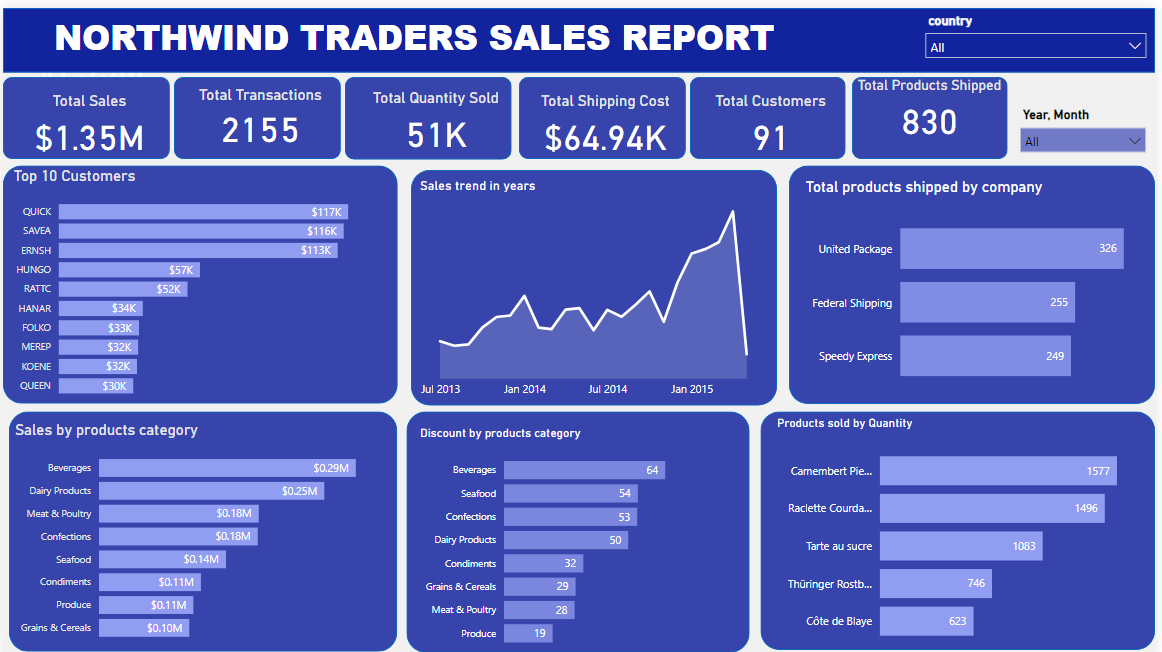

What the dashboard file says about the page in this screenshot:
{"tool":"powerbi","page":{"name":"Page 1","canvas":[1280,720],"ordinal":0},"visuals":[{"type":"shape","box":[0,76.7,185.3,91.1],"z":0,"group":"g1"},{"type":"shape","box":[189.7,76.7,185.3,91.1],"z":0,"group":"g5"},{"type":"shape","box":[763.7,76.7,173,91.1],"z":0,"group":"g2"},{"type":"shape","box":[943.3,76.7,173,91.1],"z":0,"group":"g6"},{"type":"shape","box":[841.7,448.3,438.3,265],"z":0},{"type":"shape","box":[574,76.7,185.3,91.1],"z":1000,"group":"g3"},{"type":"card","title":"Total Products Shipped","fields":{"Values":["orders.Count_shipped_Orders"]},"box":[940,76.7,178.3,73.3],"z":1000,"group":"g6"},{"type":"card","title":"Total Sales","fields":{"Values":["Sales_details.Total_Sales"]},"box":[0,92.7,191.7,73.5],"z":1000,"group":"g1"},{"type":"card","title":"Total Customers","fields":{"Values":["customers.Total Customers"]},"box":[763.7,92.7,178.9,73.5],"z":1000,"group":"g2"},{"type":"shape","box":[873.3,175,406.7,265],"z":1000},{"type":"shape","box":[379.3,76.7,185,91.7],"z":2000,"group":"g4"},{"type":"shape","box":[449.1,448.3,381.1,267.9],"z":2000},{"type":"shape","box":[453.3,180,406.7,261.7],"z":3000},{"type":"card","title":"Total Shipping Cost","fields":{"Values":["orders.Total_Shipping_Cost"]},"box":[574,92.7,191.7,73.5],"z":4000,"group":"g3"},{"type":"shape","box":[6.4,448.3,431.4,266.8],"z":4000},{"type":"card","title":"Total Sales","fields":{"Values":["Sales_details.Total_Sales"]},"box":[0,16,191.7,73.5],"z":5000},{"type":"card","title":"Total Quantity Sold","fields":{"Values":["Sales_details.Total_Quantity_sold"]},"box":[384.3,90.5,191.7,73.5],"z":5000,"group":"g4"},{"type":"shape","box":[0,0,1280,71.7],"z":6000},{"type":"textbox","box":[51.7,0,896.7,71.7],"z":7000},{"type":"card","title":"Total Transactions","fields":{"Values":["Sales_details.Total_Transaction"]},"box":[189.7,86.3,191.7,68.7],"z":7000,"group":"g5"},{"type":"group","id":"g1","title":"Group 1","box":[0,76.7,191.7,91.1],"z":8000},{"type":"group","id":"g2","title":"Group 1","box":[763.7,76.7,178.3,91.7],"z":9000},{"type":"group","id":"g3","title":"Group 2","box":[574,76.7,191.7,91.7],"z":10000},{"type":"group","id":"g4","title":"Group 3","box":[379.3,76.7,196.7,91.7],"z":11000},{"type":"group","id":"g5","title":"Group 4","box":[189.7,76.7,191.7,91.7],"z":12000},{"type":"barChart","title":"Sales by products category","fields":{"Y":["Sales_details.Total_Sales"],"Category":["categories.categoryName"]},"box":[8,458.5,431.4,255.6],"z":13000},{"type":"shape","box":[0,175.7,438.4,264.6],"z":14000},{"type":"barChart","title":"Top 10 Customers","fields":{"Category":["customers.customerID"],"Y":["Sales_details.Total_Sales"]},"box":[6.4,177.3,431.4,265.2],"z":15000},{"type":"lineChart","title":"Sales trend in years","fields":{"Y":["Sales_details.Total_Sales"],"Category":["Calendar.Date.Variation.Date Hierarchy.Year","Calendar.Date.Variation.Date Hierarchy.Quarter","Calendar.Date.Variation.Date Hierarchy.Month"]},"box":[458.3,188.3,396.7,253.3],"z":16000},{"type":"barChart","title":"Discount by products category","fields":{"Category":["categories.categoryName"],"Y":["order_details.Total_discount"]},"box":[458.4,465.3,375.2,255.4],"z":17000},{"type":"barChart","title":"Total products shipped by company","fields":{"Category":["shippers.companyName"],"Y":["orders.Count_shipped_Orders"]},"box":[886.7,188.3,393.3,251.7],"z":18000},{"type":"group","id":"g6","title":"Group 5","box":[940,76.7,178.3,91.1],"z":19000},{"type":"barChart","title":"Products sold by Quantity","fields":{"Y":["Sales_details.Total_Quantity_sold"],"Category":["Sales_details.Products_name"]},"box":[855,453.3,425,266.7],"z":20000},{"type":"slicer","title":"Dat","fields":{"Values":["Calendar.Year","Calendar.Month Name"]},"box":[1120,105,160,71.7],"z":21000},{"type":"slicer","fields":{"Values":["customers.country"]},"box":[1015,0,265,71.7],"z":22000}]}

Visuals, with their boxes in screenshot pixels (x1, y1, x2, y2), scaled from the page's 1280x720 canvas onto the 1162x652 screenshot:
shape: pyautogui.locateOnScreen(0, 69, 168, 152)
shape: pyautogui.locateOnScreen(172, 69, 340, 152)
shape: pyautogui.locateOnScreen(693, 69, 850, 152)
shape: pyautogui.locateOnScreen(856, 69, 1013, 152)
shape: pyautogui.locateOnScreen(764, 406, 1161, 646)
shape: pyautogui.locateOnScreen(521, 69, 689, 152)
"Total Products Shipped" card: pyautogui.locateOnScreen(853, 69, 1015, 136)
"Total Sales" card: pyautogui.locateOnScreen(0, 84, 174, 151)
"Total Customers" card: pyautogui.locateOnScreen(693, 84, 856, 151)
shape: pyautogui.locateOnScreen(793, 158, 1161, 398)
shape: pyautogui.locateOnScreen(344, 69, 512, 152)
shape: pyautogui.locateOnScreen(408, 406, 754, 649)
shape: pyautogui.locateOnScreen(412, 163, 781, 400)
"Total Shipping Cost" card: pyautogui.locateOnScreen(521, 84, 695, 151)
shape: pyautogui.locateOnScreen(6, 406, 397, 648)
"Total Sales" card: pyautogui.locateOnScreen(0, 14, 174, 81)
"Total Quantity Sold" card: pyautogui.locateOnScreen(349, 82, 523, 149)
shape: pyautogui.locateOnScreen(0, 0, 1161, 65)
textbox: pyautogui.locateOnScreen(47, 0, 861, 65)
"Total Transactions" card: pyautogui.locateOnScreen(172, 78, 346, 140)
"Group 1" group: pyautogui.locateOnScreen(0, 69, 174, 152)
"Group 1" group: pyautogui.locateOnScreen(693, 69, 855, 152)
"Group 2" group: pyautogui.locateOnScreen(521, 69, 695, 152)
"Group 3" group: pyautogui.locateOnScreen(344, 69, 523, 152)
"Group 4" group: pyautogui.locateOnScreen(172, 69, 346, 152)
"Sales by products category" barChart: pyautogui.locateOnScreen(7, 415, 399, 647)
shape: pyautogui.locateOnScreen(0, 159, 398, 399)
"Top 10 Customers" barChart: pyautogui.locateOnScreen(6, 161, 397, 401)
"Sales trend in years" lineChart: pyautogui.locateOnScreen(416, 171, 776, 400)
"Discount by products category" barChart: pyautogui.locateOnScreen(416, 421, 757, 651)
"Total products shipped by company" barChart: pyautogui.locateOnScreen(805, 171, 1161, 398)
"Group 5" group: pyautogui.locateOnScreen(853, 69, 1015, 152)
"Products sold by Quantity" barChart: pyautogui.locateOnScreen(776, 410, 1161, 651)
"Dat" slicer: pyautogui.locateOnScreen(1017, 95, 1161, 160)
slicer - customers.country: pyautogui.locateOnScreen(921, 0, 1161, 65)
